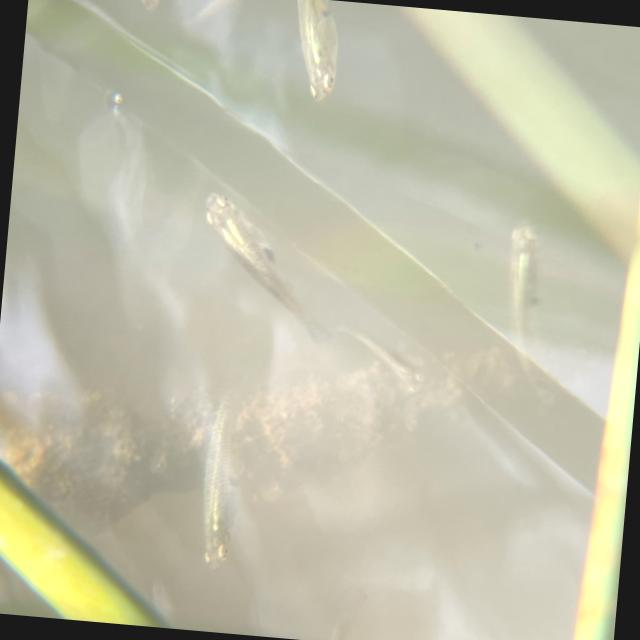Sivrisinek Baligi: (160, 187, 333, 341), (462, 218, 566, 394), (166, 393, 250, 580), (270, 0, 349, 105)
